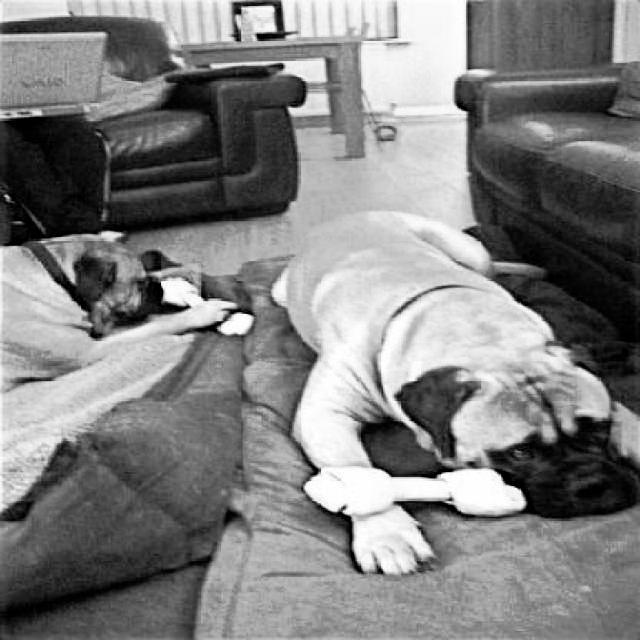Dog: (271, 207, 640, 575)
